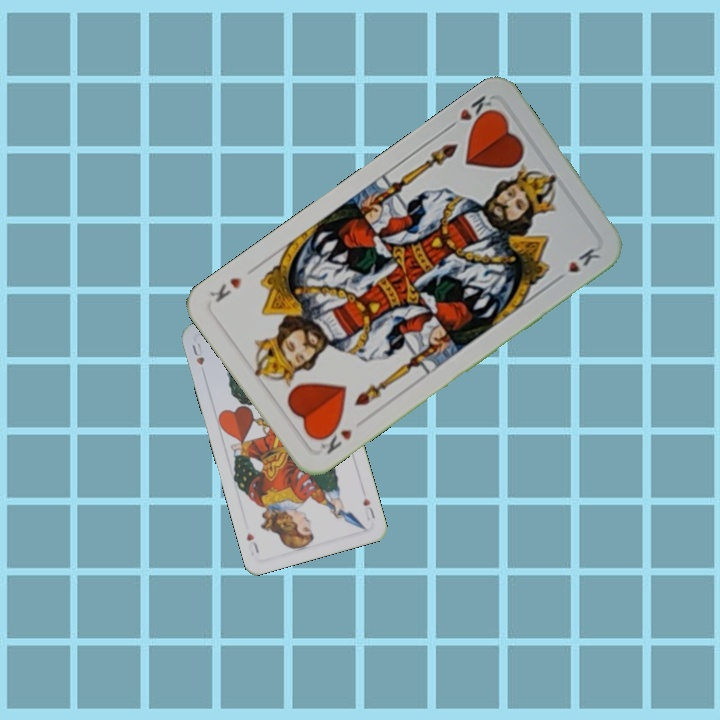HK: (442, 91, 500, 133), (316, 425, 355, 457)
HU: (188, 338, 207, 368), (359, 494, 377, 523)
